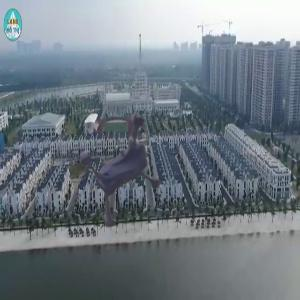drone: (58, 90, 185, 217)
